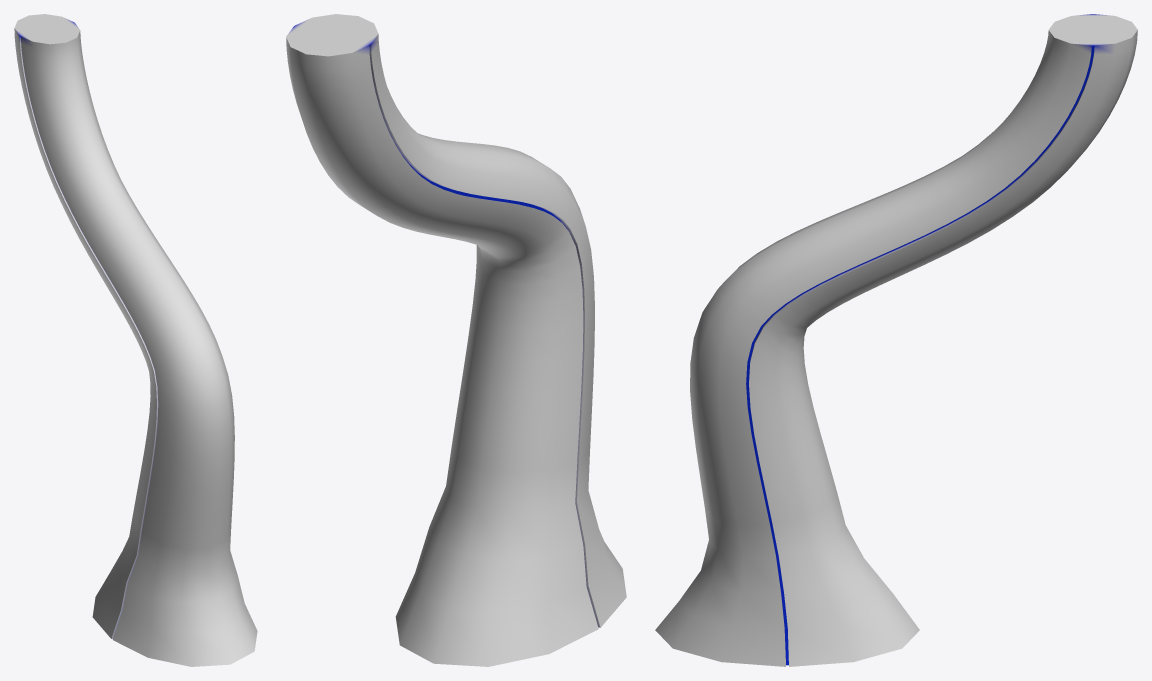
Rendered from Colonne.fbx.
The picture shows the model from 3 angles, left to right: view 1: azimuth 30°, elevation 25°; view 2: azimuth 150°, elevation 25°; view 3: azimuth 270°, elevation 25°; orthographic projection. The views are drawn at different scales.
Visible parts, largest first — view 1: BezierCurve.001; view 2: BezierCurve.001; view 3: BezierCurve.001.
Part boxes in pixels (bbox=[...]): BezierCurve.001: bbox=[14, 14, 257, 666]; BezierCurve.001: bbox=[286, 14, 626, 666]; BezierCurve.001: bbox=[655, 14, 1137, 666].
Size of the model in its own units: 120 by 456 by 333.
